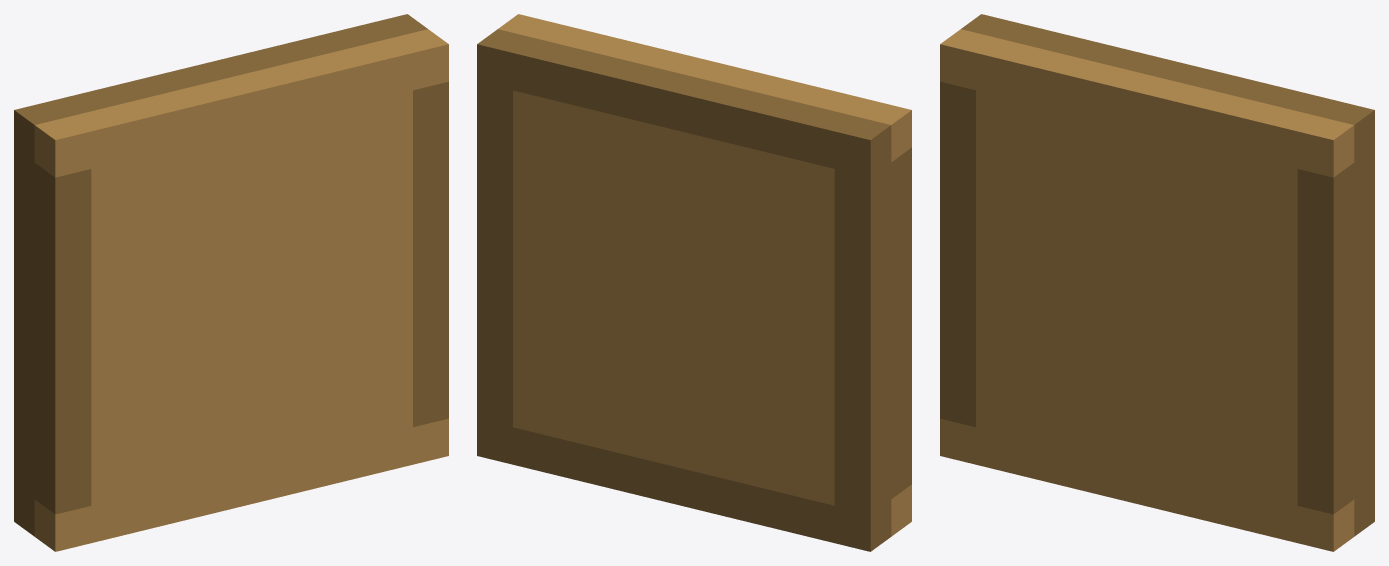
The model's file is aplique_ceramico_cobre_01.glb.
3 views of the same model, side by side, from view 1: azimuth 30°, elevation 25°; view 2: azimuth 150°, elevation 25°; view 3: azimuth 330°, elevation 25° (orthographic).
Visible parts, largest first — view 1: aplique_ceramico_cobre; view 2: aplique_ceramico_cobre; view 3: aplique_ceramico_cobre.
Part boxes in pixels (bbox=[...]): aplique_ceramico_cobre: bbox=[14, 14, 448, 551]; aplique_ceramico_cobre: bbox=[477, 14, 911, 551]; aplique_ceramico_cobre: bbox=[940, 14, 1374, 551].
Size of the model in its own units: 1 by 1 by 0.1818.
